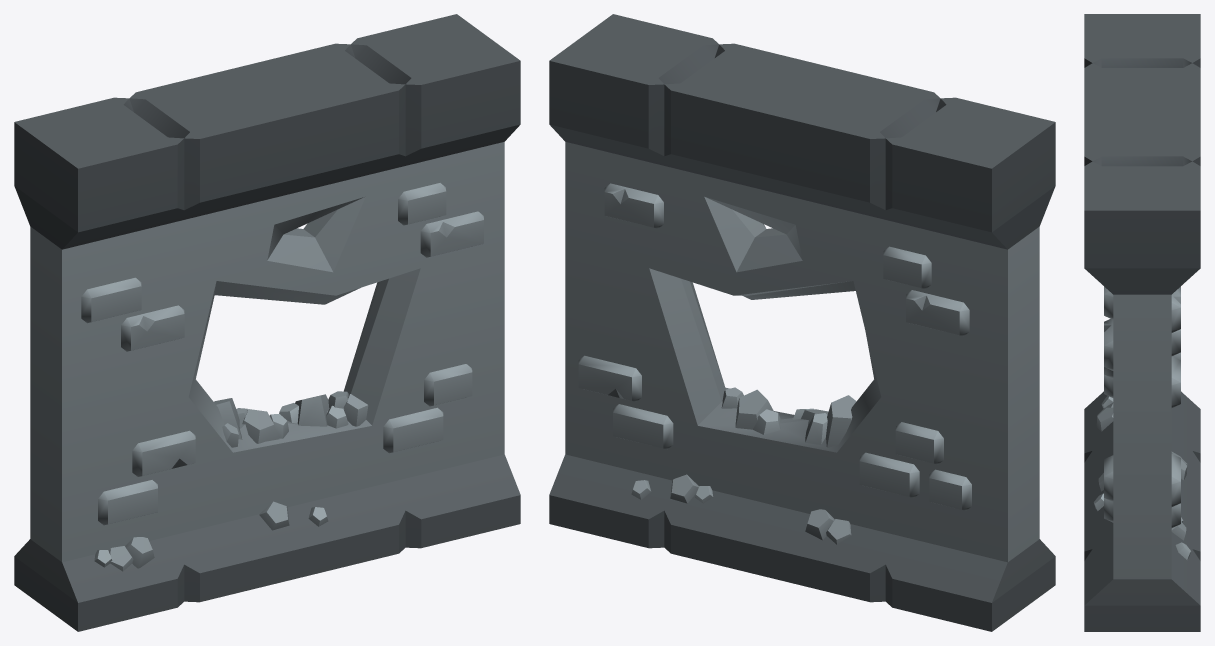
The model's file is wall_broken.gltf.
3 views of the same model, side by side, from view 1: azimuth 30°, elevation 25°; view 2: azimuth 150°, elevation 25°; view 3: azimuth 270°, elevation 25° (orthographic). The views are drawn at different scales.
Visible parts, largest first — view 1: wall_broken; view 2: wall_broken; view 3: wall_broken.
Part boxes in pixels (x1,y1,x2,y2): wall_broken: [14, 14, 520, 631]; wall_broken: [549, 14, 1055, 631]; wall_broken: [1084, 14, 1200, 631].
Size of the model in its own units: 4 by 4 by 1.
1 material, 1 textured.
